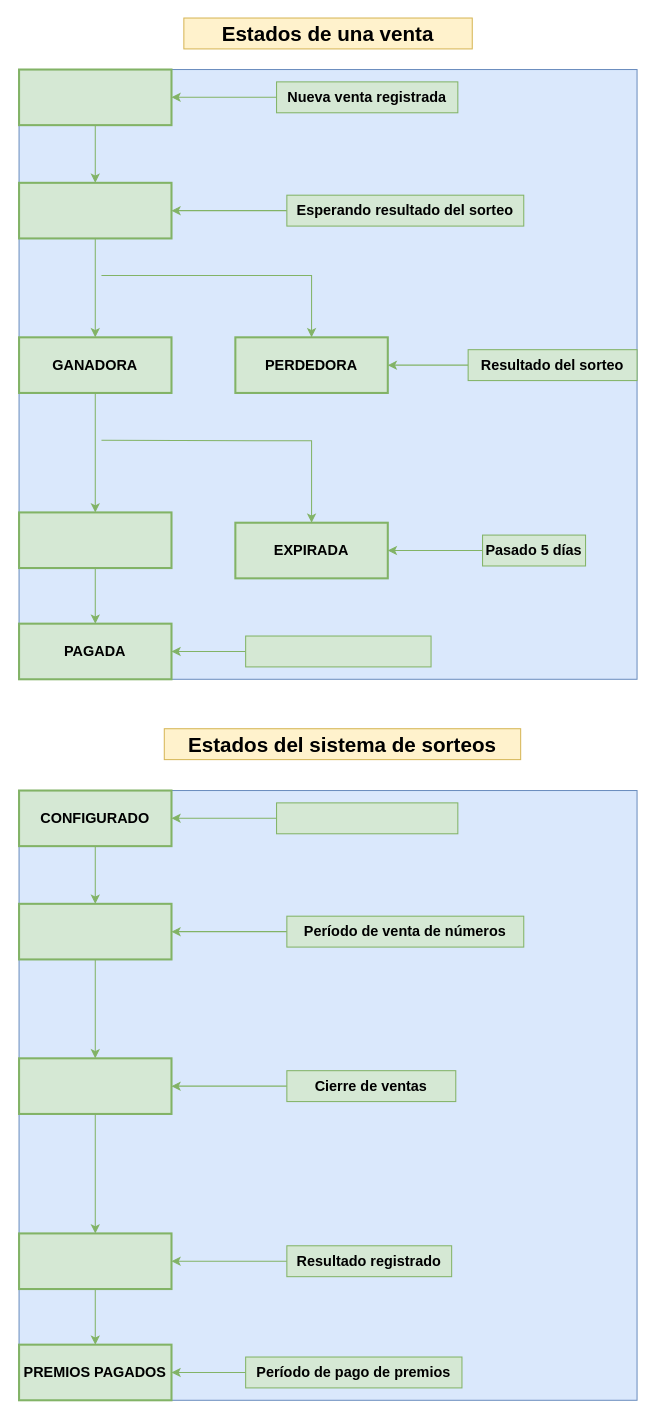
Some shapes in this 655 by 1419 pixel diagram are drawn without their labels. Here are the shapes that lost their labels. From the top down, the box of each, then its label:
(18, 68, 172, 126): REGISTRADA
(18, 181, 172, 239): PENDIENTE
(18, 511, 172, 569): RECLAMABLE
(245, 635, 431, 667): Premio pagada al cliente
(276, 802, 458, 834): Sorteos configurados
(18, 902, 172, 960): VENTA ACTIVA
(18, 1057, 172, 1114): SORTEO CERRADO
(18, 1232, 172, 1290): RESULTADO REG
